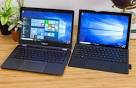laptop: (9, 5, 71, 75), (75, 5, 132, 74)
